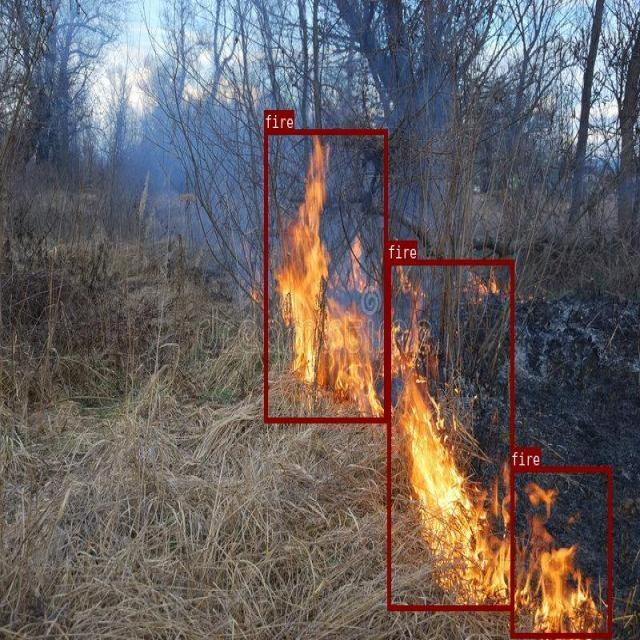fire: (387, 258, 513, 609), (263, 129, 387, 422), (510, 467, 611, 638)
